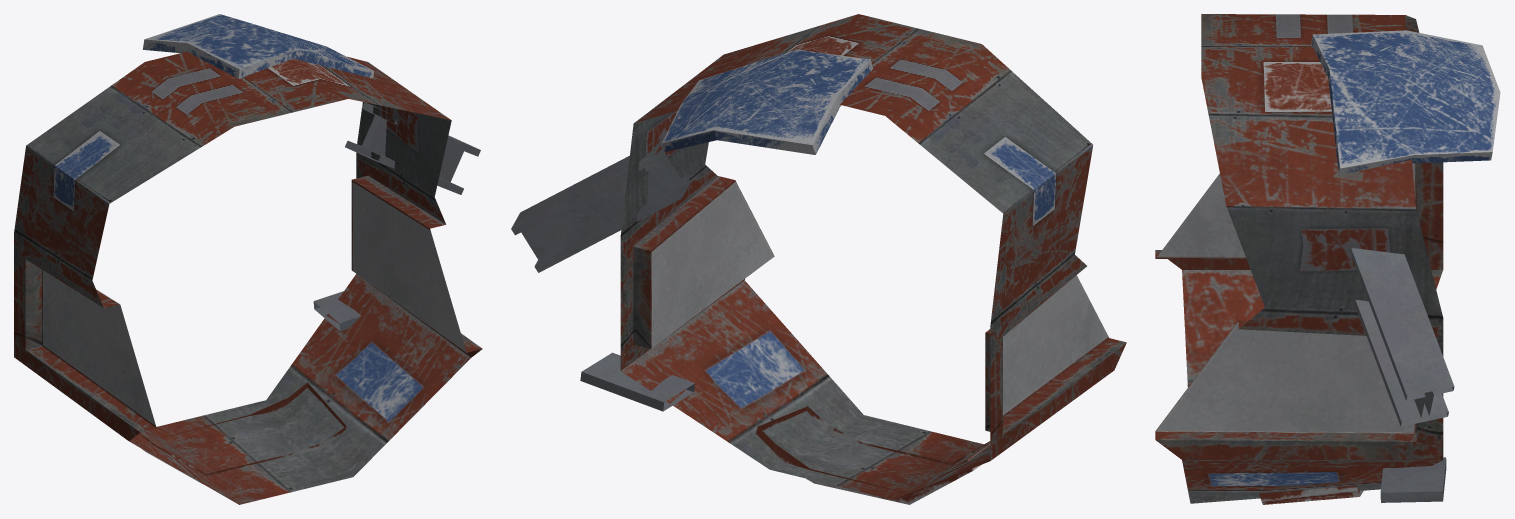
The model's file is HCP9.fbx.
3 views of the same model, side by side, from view 1: azimuth 30°, elevation 25°; view 2: azimuth 150°, elevation 25°; view 3: azimuth 270°, elevation 25° (orthographic). The views are drawn at different scales.
Parts seen in each view (by area): view 1: nineD; view 2: nineD; view 3: nineD.
Boxes of the visible parts, left/top/right/bottom form: nineD: left=14, top=14, right=482, bottom=504; nineD: left=511, top=14, right=1126, bottom=504; nineD: left=1155, top=14, right=1500, bottom=504.
Bounding box in the file's own units: 7838 × 6402 × 4563.
Materials: 1 (1 with a texture image).
